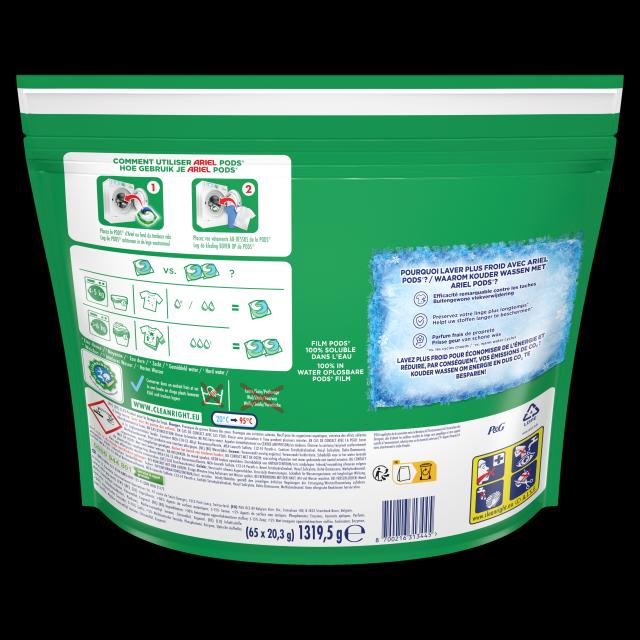GHS_Symbol_CORROSION: (88, 399, 121, 434)
